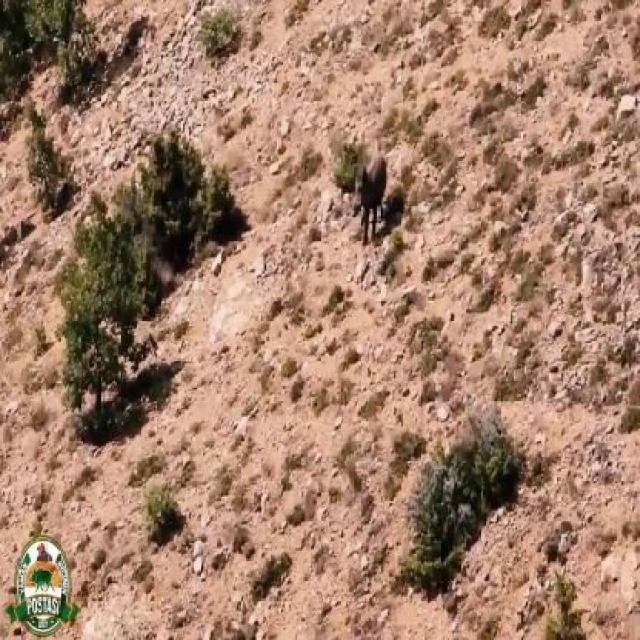pig: (348, 137, 390, 249)
